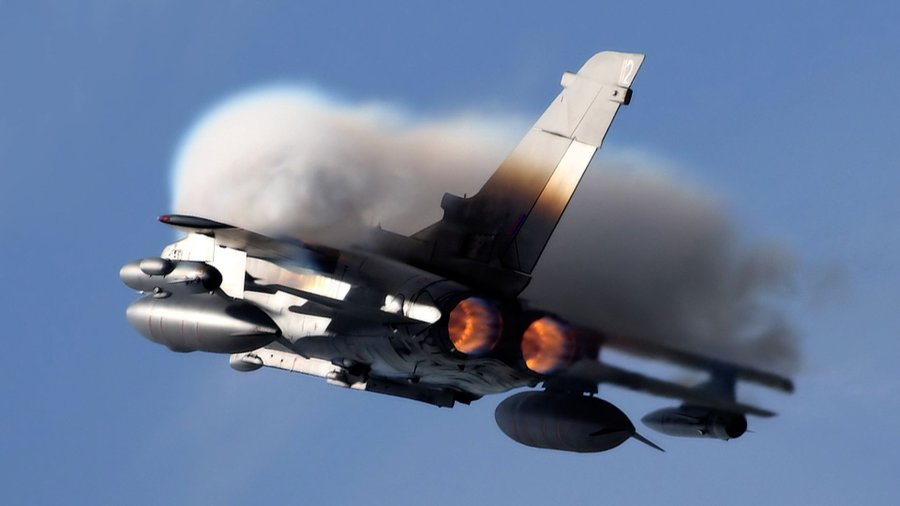Tornado: (118, 50, 796, 453)
